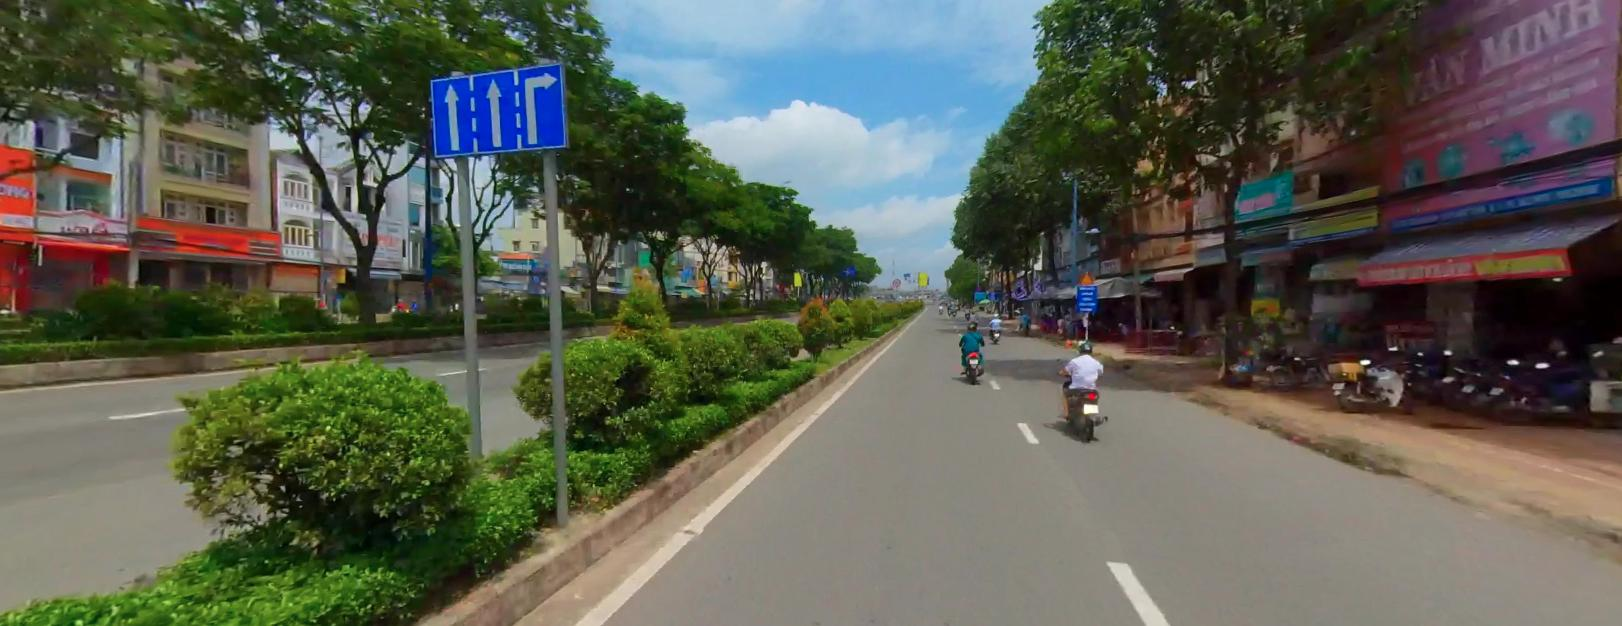Cam con lai: (892, 277, 900, 285)
Nguy hiem: (1078, 271, 1095, 282)
